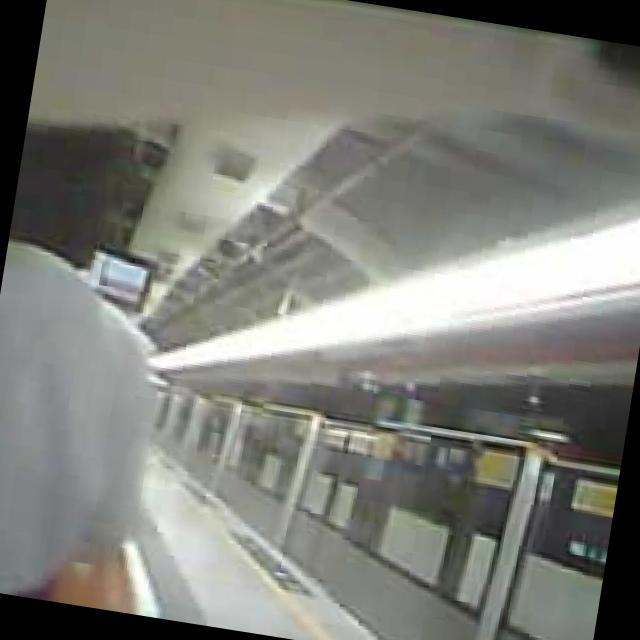person: (0, 133, 197, 612)
